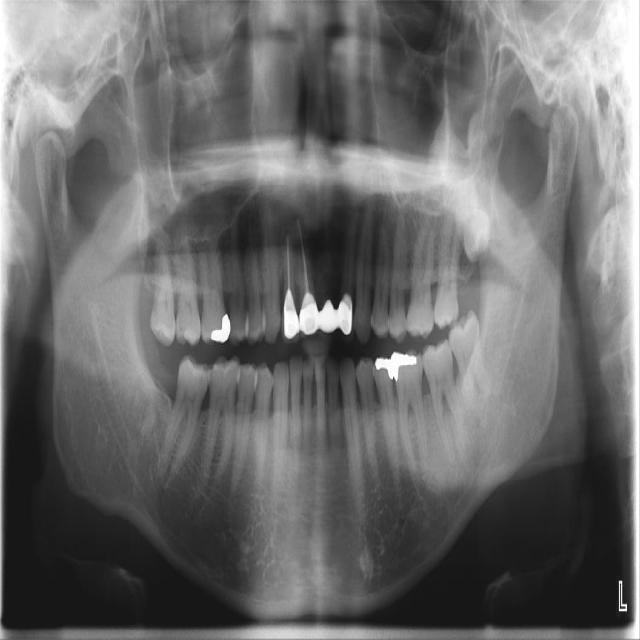Filling: (374, 354, 418, 381), (210, 315, 229, 341)
Periapical lesion: (464, 413, 479, 434)
Root Canal Treatment: (302, 234, 310, 293), (286, 239, 290, 287)
impacted tooth: (440, 165, 492, 255)
